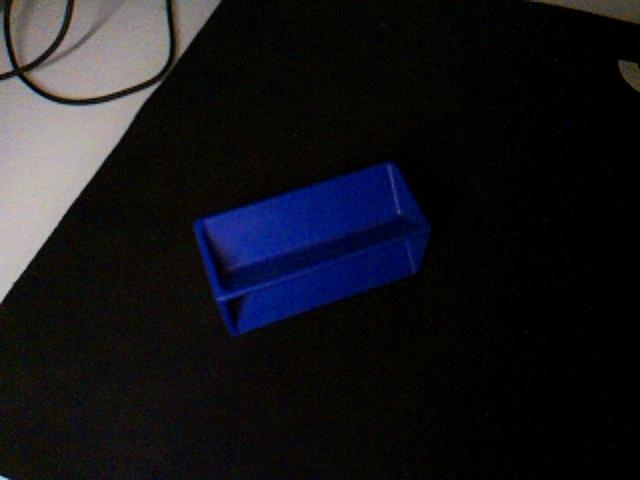blue: (192, 159, 433, 338)
